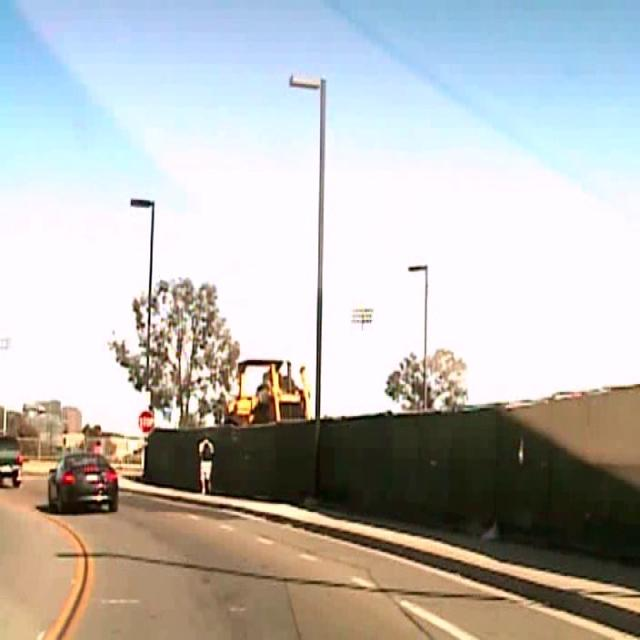stop: (137, 409, 154, 432)
